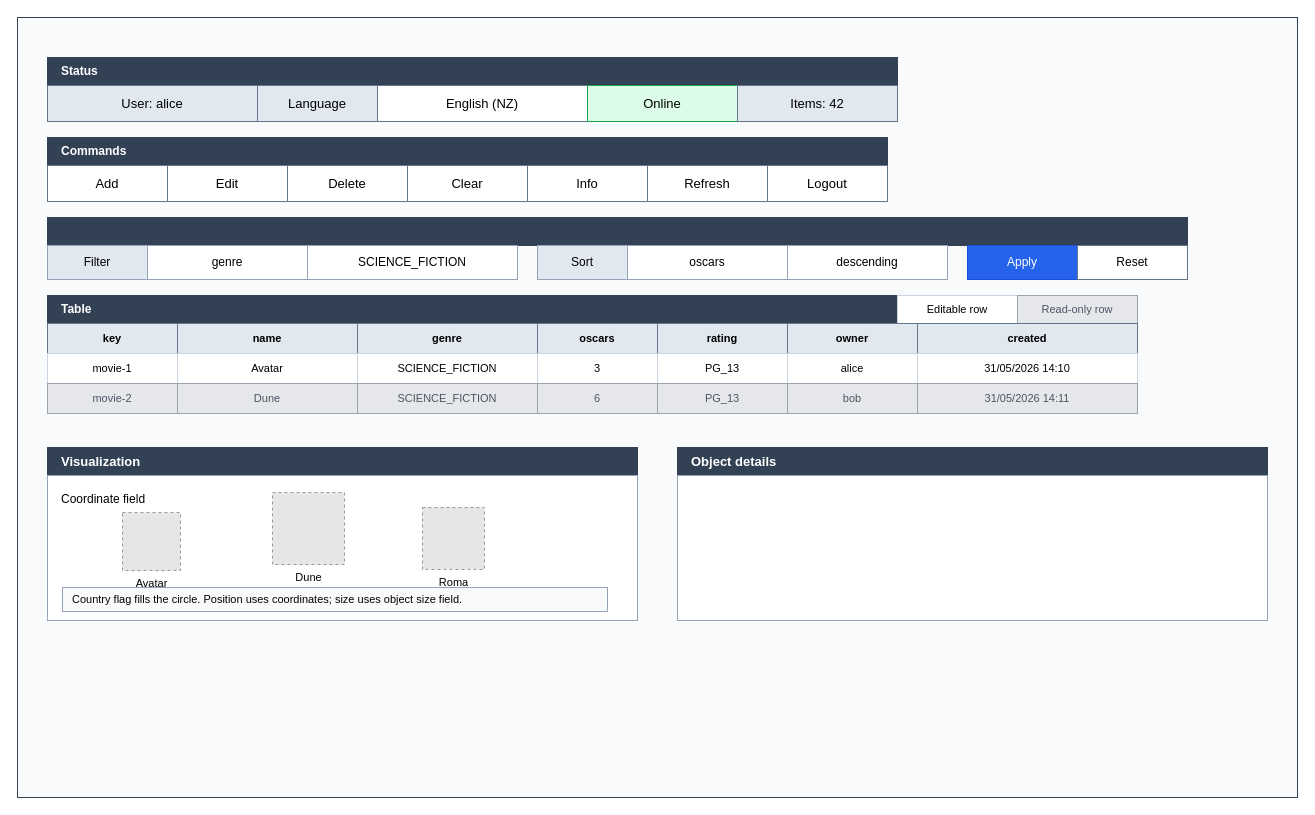
The diagram is 1315 pixels wide and 815 high, and some of its shapes have lost their labels. Grey dashed boxes stand in for pictures. Each missing label, with the centre of its shape:
Filter and sort: the point at 617,231
No object selected: the point at 972,547
